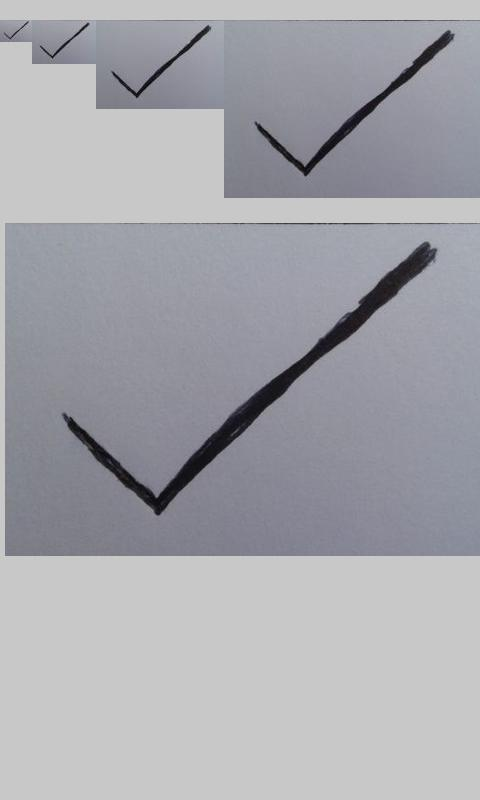check_box: (64, 244, 437, 511), (255, 30, 453, 174), (112, 26, 212, 99), (40, 23, 89, 59), (3, 23, 25, 40)
